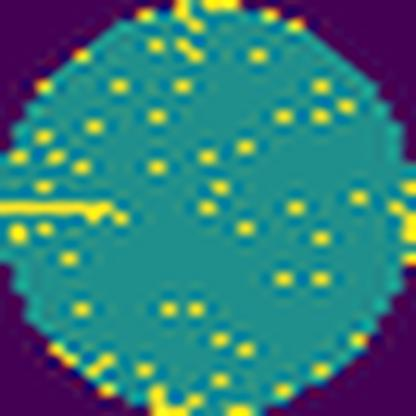Scratch: (0, 195, 136, 234)
